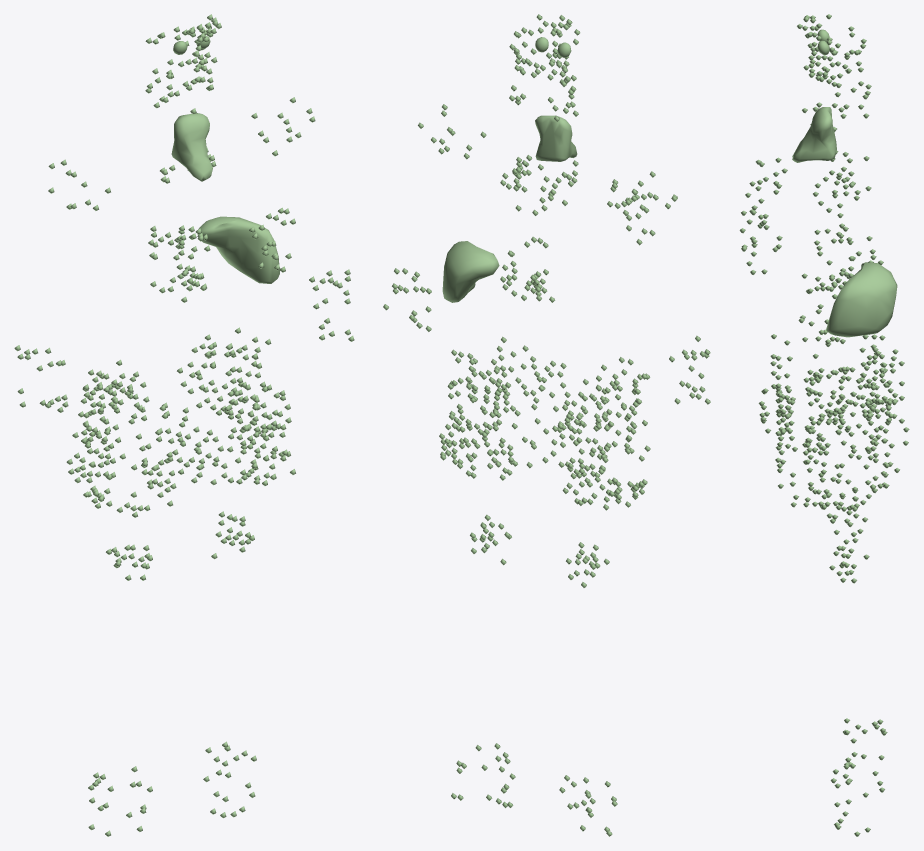
Rendered from pediatric_child_10y_male.lymphatic.LOD2.glb.
3 renders of one model, left to right at view 1: azimuth 30°, elevation 25°; view 2: azimuth 150°, elevation 25°; view 3: azimuth 270°, elevation 25°, orthographic. The views are drawn at different scales.
Parts seen in each view (by area): view 1: PEDIATRIC.CHILD_10Y.MALE.LYMPHATIC.LYMPHATIC_NODES_TRUNK, PEDIATRIC.CHILD_10Y.MALE.LYMPHATIC.SPLEEN, PEDIATRIC.CHILD_10Y.MALE.LYMPHATIC.THYMUS, PEDIATRIC.CHILD_10Y.MALE.LYMPHATIC.LYMPHATIC_NODES_ET, PEDIATRIC.CHILD_10Y.MALE.LYMPHATIC.LYMPHATIC_NODES_ARMS, PEDIATRIC.CHILD_10Y.MALE.LYMPHATIC.LYMPHATIC_NODES_LEGS, PEDIATRIC.CHILD_10Y.MALE.LYMPHATIC.LYMPHATIC_NODES_THORACIC; view 2: PEDIATRIC.CHILD_10Y.MALE.LYMPHATIC.LYMPHATIC_NODES_TRUNK, PEDIATRIC.CHILD_10Y.MALE.LYMPHATIC.SPLEEN, PEDIATRIC.CHILD_10Y.MALE.LYMPHATIC.THYMUS, PEDIATRIC.CHILD_10Y.MALE.LYMPHATIC.LYMPHATIC_NODES_ET, PEDIATRIC.CHILD_10Y.MALE.LYMPHATIC.LYMPHATIC_NODES_THORACIC, PEDIATRIC.CHILD_10Y.MALE.LYMPHATIC.LYMPHATIC_NODES_LEGS, PEDIATRIC.CHILD_10Y.MALE.LYMPHATIC.LYMPHATIC_NODES_ARMS; view 3: PEDIATRIC.CHILD_10Y.MALE.LYMPHATIC.LYMPHATIC_NODES_TRUNK, PEDIATRIC.CHILD_10Y.MALE.LYMPHATIC.SPLEEN, PEDIATRIC.CHILD_10Y.MALE.LYMPHATIC.THYMUS, PEDIATRIC.CHILD_10Y.MALE.LYMPHATIC.LYMPHATIC_NODES_ET, PEDIATRIC.CHILD_10Y.MALE.LYMPHATIC.LYMPHATIC_NODES_THORACIC, PEDIATRIC.CHILD_10Y.MALE.LYMPHATIC.LYMPHATIC_NODES_ARMS, PEDIATRIC.CHILD_10Y.MALE.LYMPHATIC.LYMPHATIC_NODES_LEGS, PEDIATRIC.CHILD_10Y.MALE.LYMPHATIC.LYMPHATIC_NODES_HEAD.
Boxes of the visible parts, bbox=[...] form: PEDIATRIC.CHILD_10Y.MALE.LYMPHATIC.LYMPHATIC_NODES_TRUNK: bbox=[48, 97, 315, 580]; PEDIATRIC.CHILD_10Y.MALE.LYMPHATIC.SPLEEN: bbox=[197, 216, 279, 283]; PEDIATRIC.CHILD_10Y.MALE.LYMPHATIC.THYMUS: bbox=[171, 113, 212, 181]; PEDIATRIC.CHILD_10Y.MALE.LYMPHATIC.LYMPHATIC_NODES_ET: bbox=[145, 14, 221, 84]; PEDIATRIC.CHILD_10Y.MALE.LYMPHATIC.LYMPHATIC_NODES_ARMS: bbox=[14, 269, 354, 412]; PEDIATRIC.CHILD_10Y.MALE.LYMPHATIC.LYMPHATIC_NODES_LEGS: bbox=[88, 741, 256, 836]; PEDIATRIC.CHILD_10Y.MALE.LYMPHATIC.LYMPHATIC_NODES_THORACIC: bbox=[148, 147, 216, 302]; PEDIATRIC.CHILD_10Y.MALE.LYMPHATIC.LYMPHATIC_NODES_TRUNK: bbox=[418, 104, 677, 587]; PEDIATRIC.CHILD_10Y.MALE.LYMPHATIC.SPLEEN: bbox=[442, 241, 499, 302]; PEDIATRIC.CHILD_10Y.MALE.LYMPHATIC.THYMUS: bbox=[535, 115, 577, 161]; PEDIATRIC.CHILD_10Y.MALE.LYMPHATIC.LYMPHATIC_NODES_ET: bbox=[509, 14, 580, 81]; PEDIATRIC.CHILD_10Y.MALE.LYMPHATIC.LYMPHATIC_NODES_THORACIC: bbox=[500, 155, 578, 302]; PEDIATRIC.CHILD_10Y.MALE.LYMPHATIC.LYMPHATIC_NODES_LEGS: bbox=[451, 743, 617, 836]; PEDIATRIC.CHILD_10Y.MALE.LYMPHATIC.LYMPHATIC_NODES_ARMS: bbox=[383, 268, 710, 404]; PEDIATRIC.CHILD_10Y.MALE.LYMPHATIC.LYMPHATIC_NODES_TRUNK: bbox=[739, 90, 909, 583]; PEDIATRIC.CHILD_10Y.MALE.LYMPHATIC.SPLEEN: bbox=[826, 262, 897, 337]; PEDIATRIC.CHILD_10Y.MALE.LYMPHATIC.THYMUS: bbox=[792, 107, 836, 162]; PEDIATRIC.CHILD_10Y.MALE.LYMPHATIC.LYMPHATIC_NODES_ET: bbox=[797, 14, 866, 81]; PEDIATRIC.CHILD_10Y.MALE.LYMPHATIC.LYMPHATIC_NODES_THORACIC: bbox=[819, 150, 883, 291]; PEDIATRIC.CHILD_10Y.MALE.LYMPHATIC.LYMPHATIC_NODES_ARMS: bbox=[801, 223, 853, 430]; PEDIATRIC.CHILD_10Y.MALE.LYMPHATIC.LYMPHATIC_NODES_LEGS: bbox=[830, 718, 887, 836]; PEDIATRIC.CHILD_10Y.MALE.LYMPHATIC.LYMPHATIC_NODES_HEAD: bbox=[809, 61, 871, 112].
Bounding box in the file's own units: 0.3922 × 0.9178 × 0.1791.
